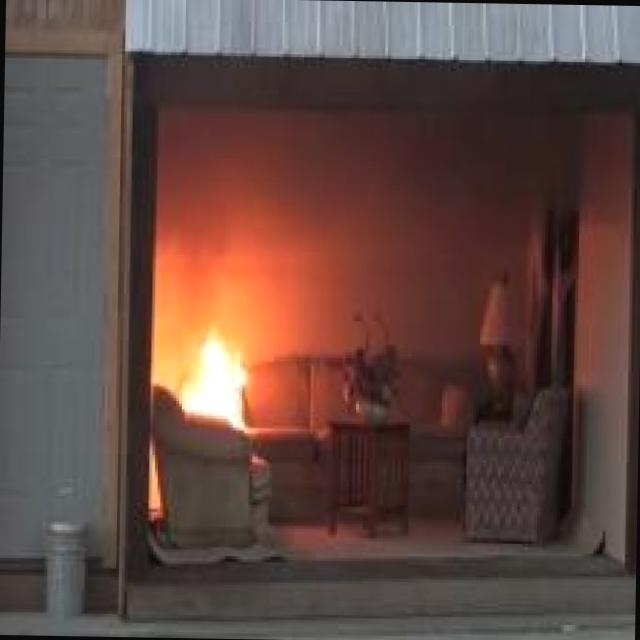fire: (148, 284, 279, 460)
